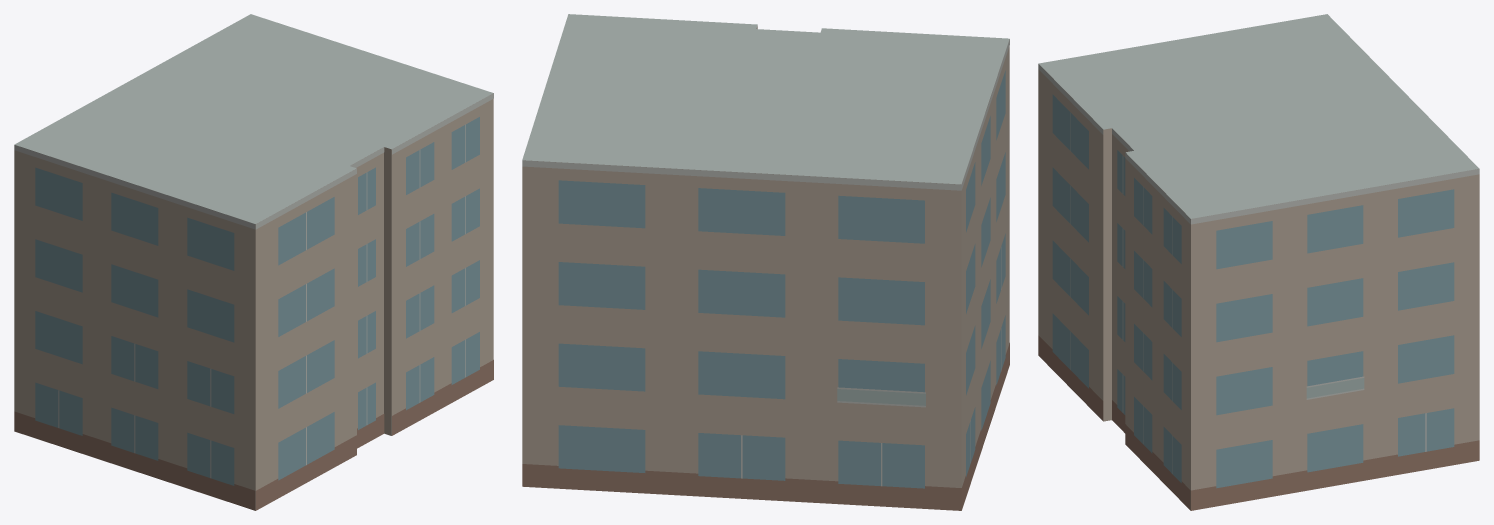
The model's file is survey-upis-32627743.glb.
The picture shows the model from 3 angles, left to right: view 1: azimuth 30°, elevation 25°; view 2: azimuth 150°, elevation 25°; view 3: azimuth 270°, elevation 25°; orthographic projection. The views are drawn at different scales.
Parts seen in each view (by area): view 1: survey-upis-32627743.tmp; view 2: survey-upis-32627743.tmp; view 3: survey-upis-32627743.tmp.
Part boxes in pixels (bbox=[...]): survey-upis-32627743.tmp: bbox=[14, 14, 493, 510]; survey-upis-32627743.tmp: bbox=[522, 14, 1009, 510]; survey-upis-32627743.tmp: bbox=[1038, 14, 1479, 510].
Bounding box in the file's own units: 19.13 × 12.7 × 17.4.
